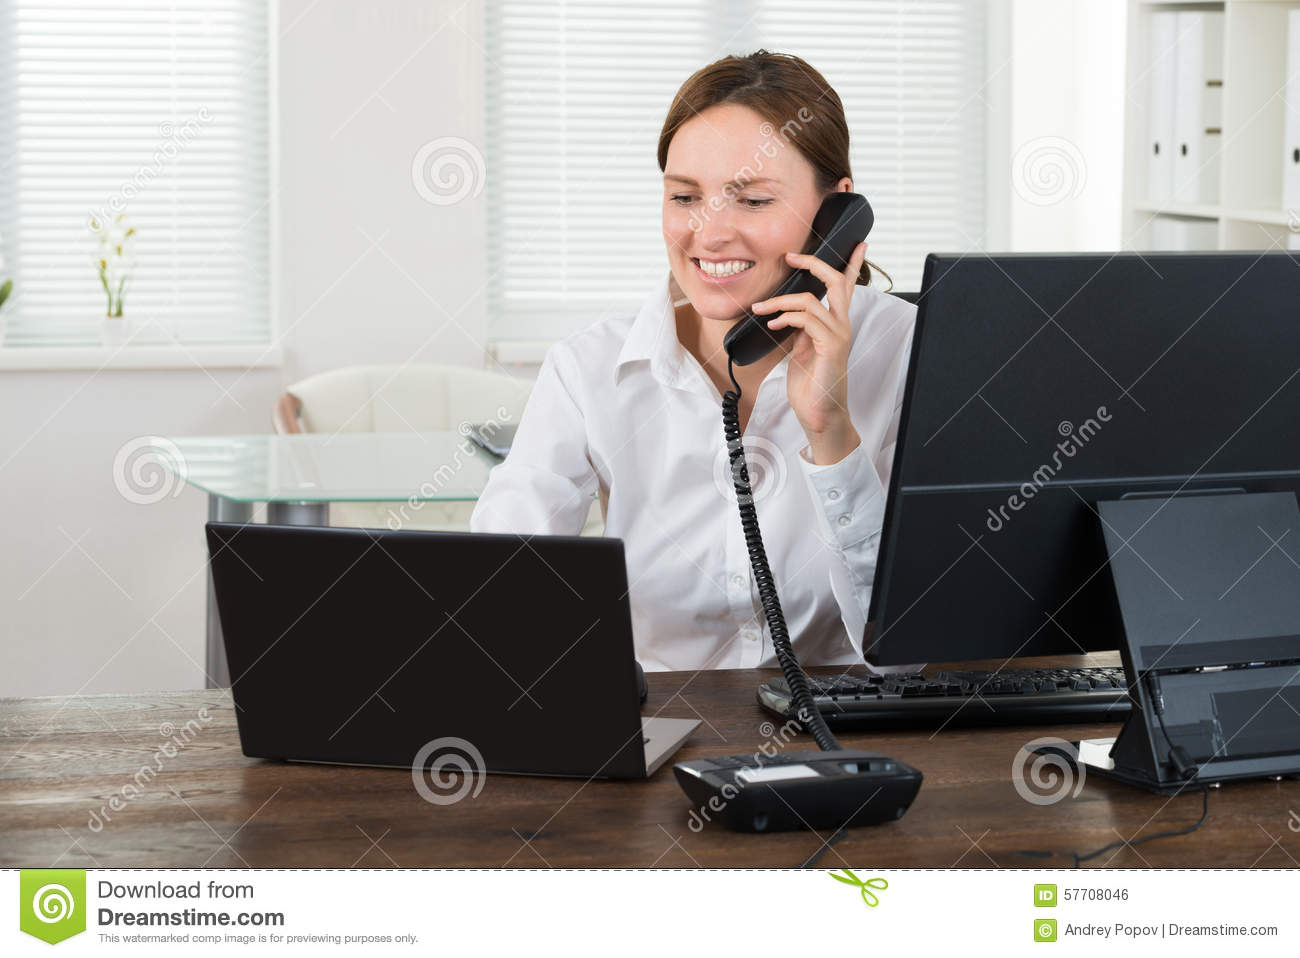talk: (661, 169, 865, 434)
